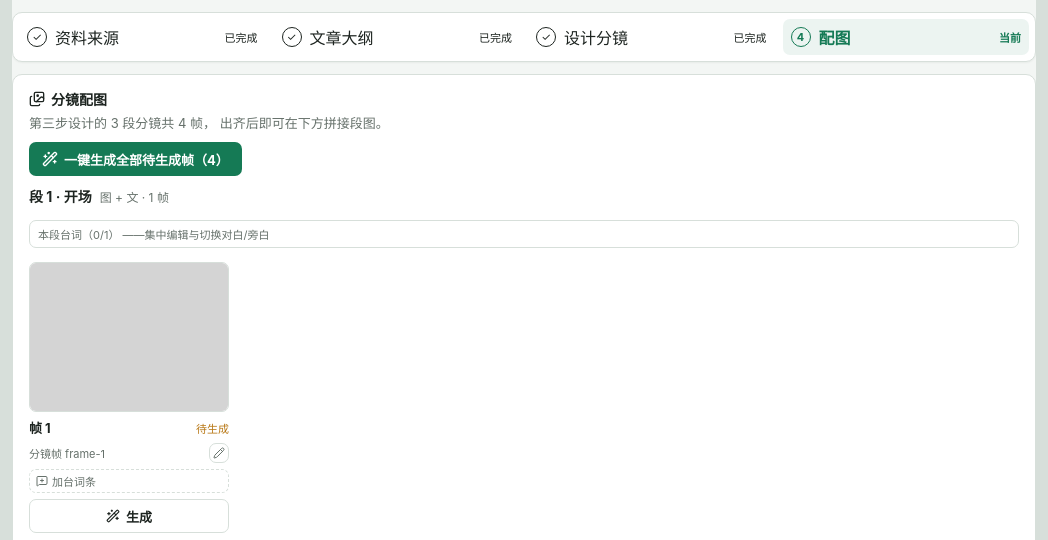
Test: ArticleWorkspace › rehydrates server state carried by a failed frame generation
Click the button "生成". click: (129, 516)
box: top-left (29, 499), bottom-right (229, 533)
(page scrolled)
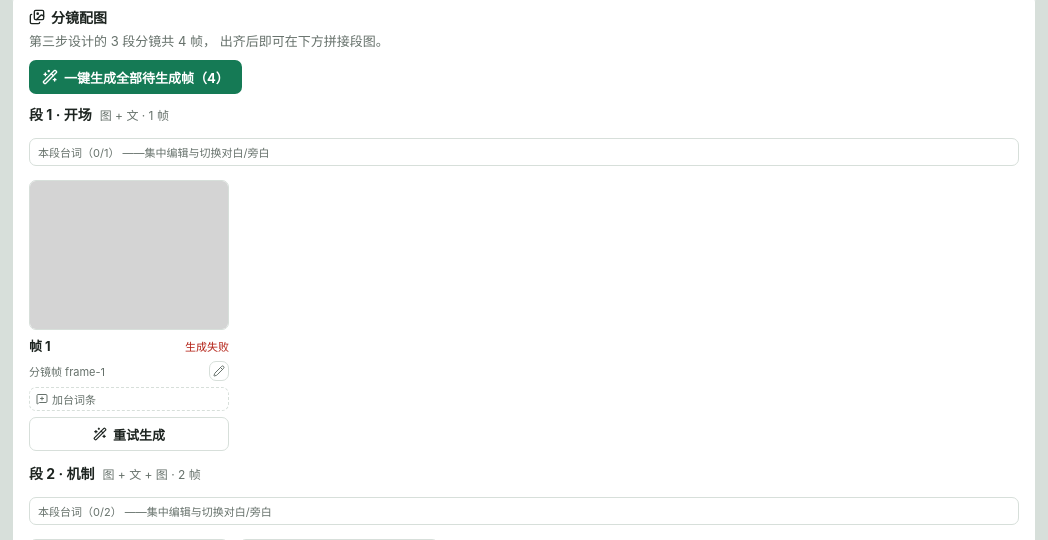
Expected: the text "生成失败" is shown, top-left (185, 338), bottom-right (229, 354)
